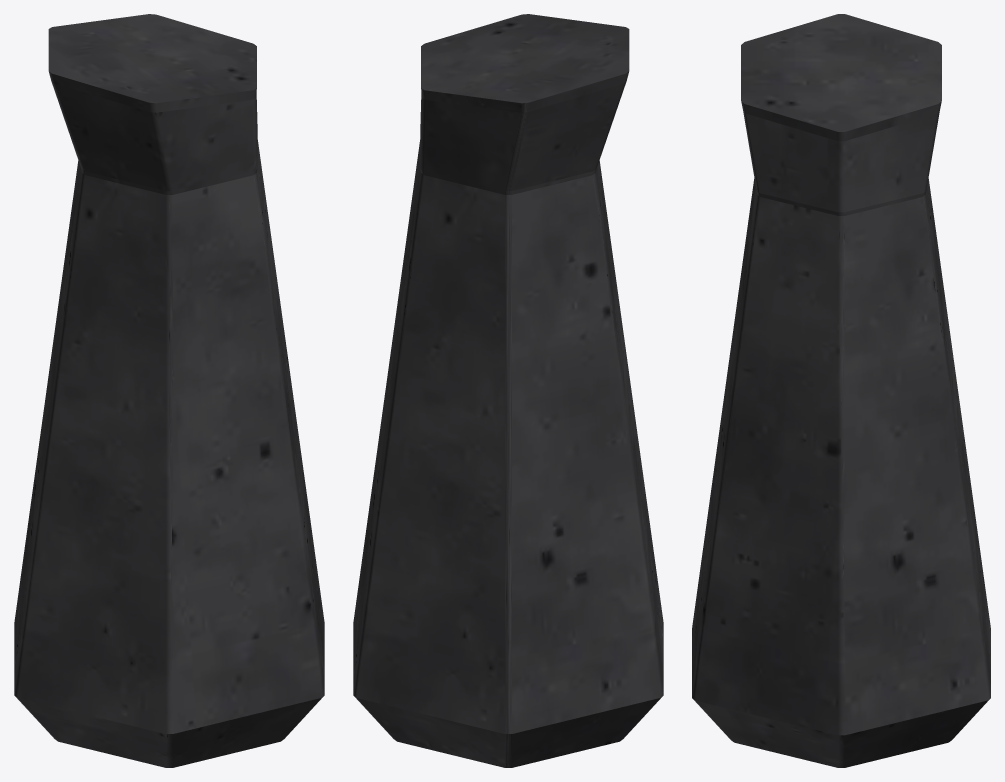
File: hexalith_black_knight.glb
3 renders of one model, left to right at view 1: azimuth 30°, elevation 25°; view 2: azimuth 150°, elevation 25°; view 3: azimuth 270°, elevation 25°, orthographic. The views are drawn at different scales.
Visible parts, largest first — view 1: HEXALITH_black_knight; view 2: HEXALITH_black_knight; view 3: HEXALITH_black_knight.
Part boxes in pixels (x1,y1,x2,y2): HEXALITH_black_knight: [14, 14, 324, 767]; HEXALITH_black_knight: [353, 14, 663, 767]; HEXALITH_black_knight: [692, 14, 990, 767].
Bounding box in the file's own units: 0.0307 × 0.0639 × 0.0268.
Materials: 1 (1 with a texture image).
